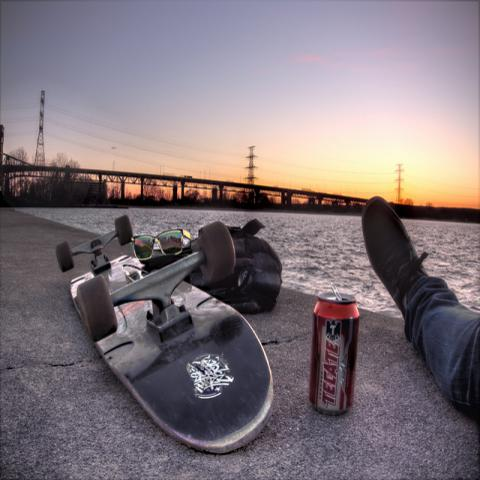bus: (186, 176, 192, 178)
